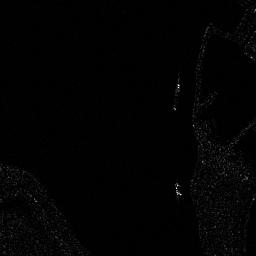ship: (173, 82, 181, 111)
